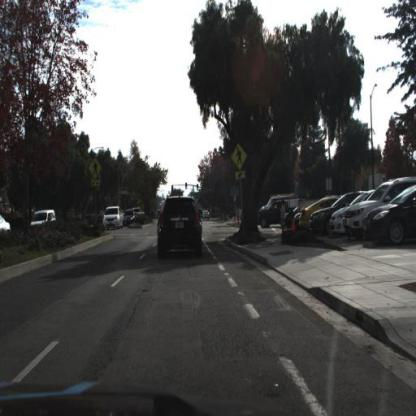car: (155, 192, 206, 264), (343, 184, 396, 241), (308, 188, 368, 237), (325, 191, 378, 238), (301, 195, 342, 235), (256, 197, 292, 231), (308, 201, 337, 237), (99, 205, 126, 233), (29, 208, 59, 230), (42, 215, 66, 236), (123, 207, 138, 226)
pedestrian: (279, 198, 289, 236)
